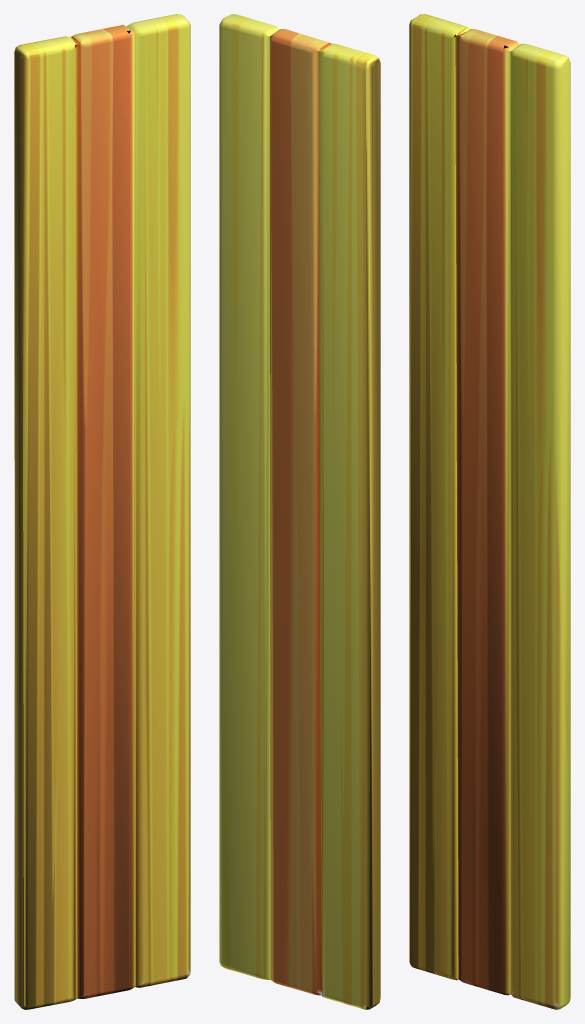
The model's file is jjon_1.glb.
3 renders of one model, left to right at view 1: azimuth 30°, elevation 25°; view 2: azimuth 150°, elevation 25°; view 3: azimuth 330°, elevation 25°, orthographic.
Parts seen in each view (by area): view 1: 1; view 2: 1; view 3: 1.
Boxes of the visible parts, x1,y1,x2,y2 form: 1: (14,14,190,1009); 1: (219,14,380,1009); 1: (409,14,570,1009).
Size of the model in its own units: 0.0501 by 0.282 by 0.011.
1 material, 1 textured.
